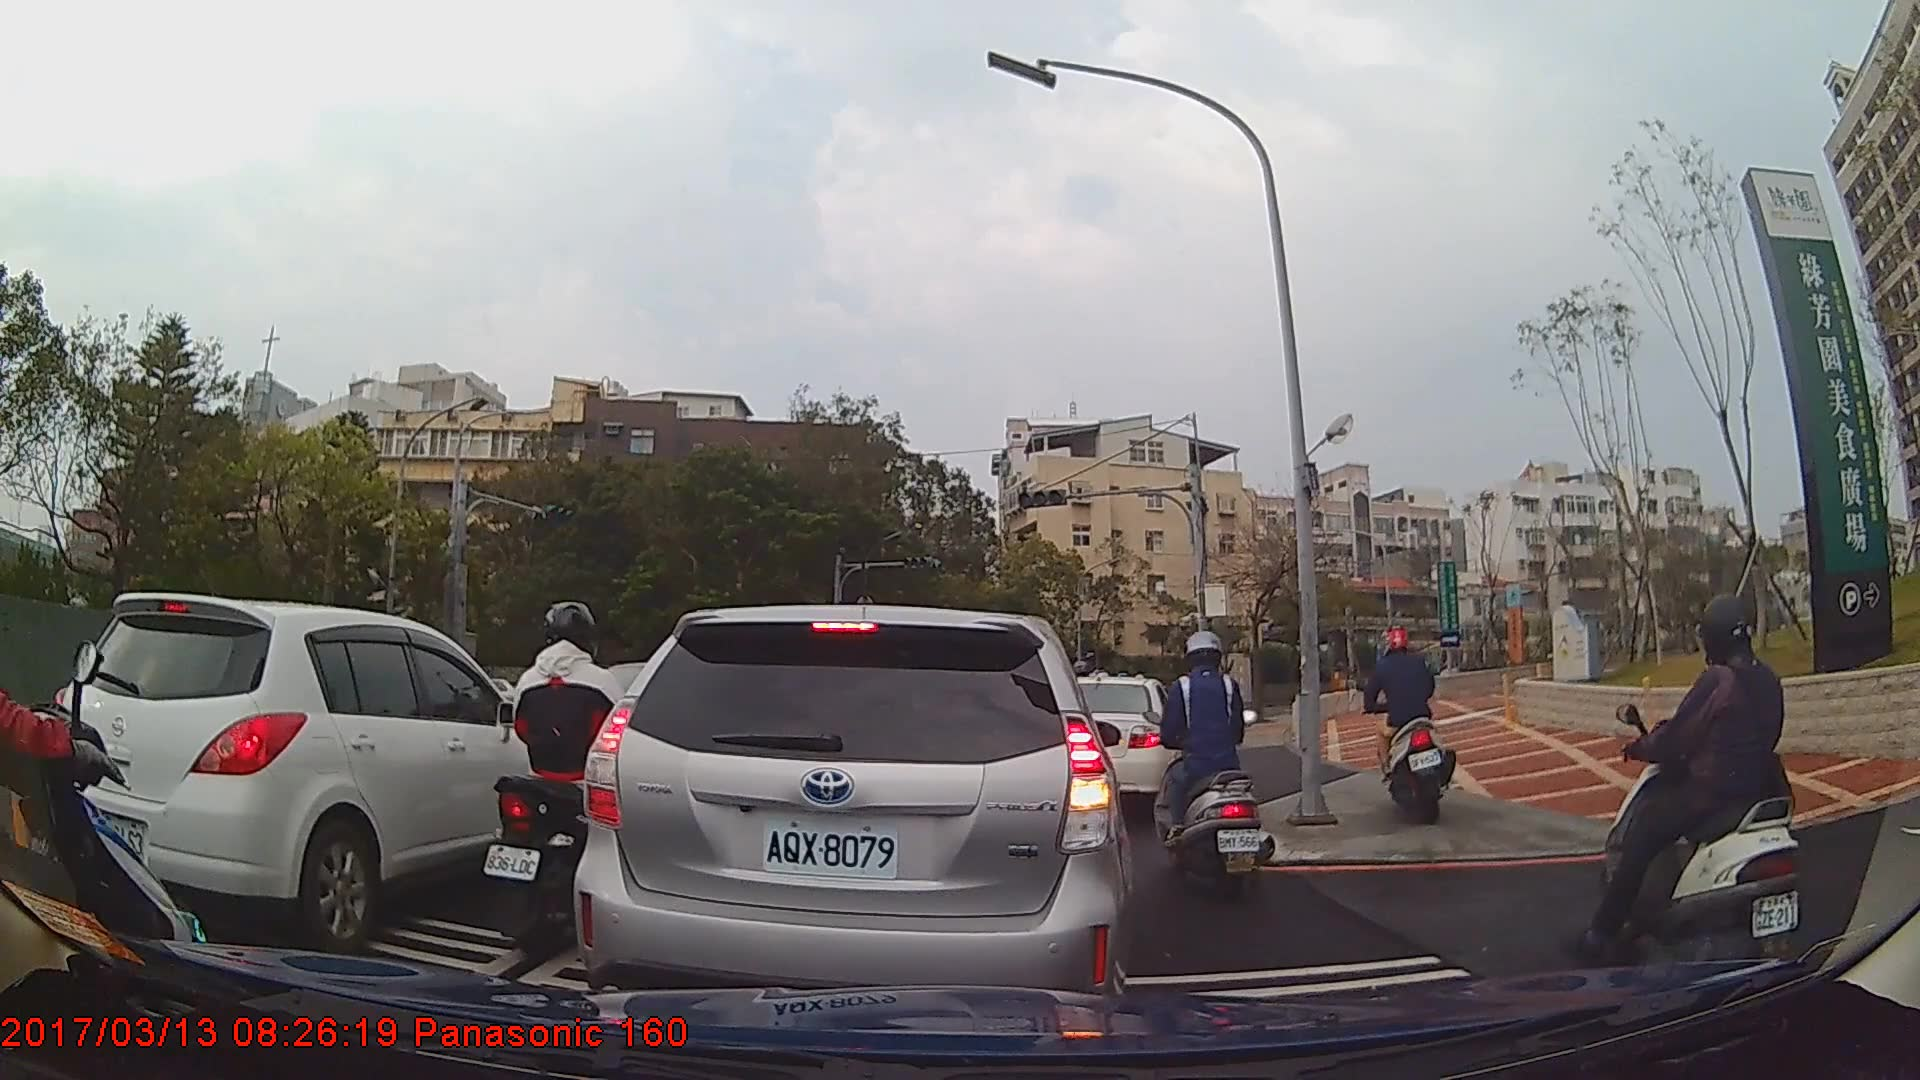rider: (1567, 592, 1812, 977), (484, 597, 662, 955), (1147, 629, 1272, 902), (1363, 630, 1463, 829)
vehicle: (573, 603, 1131, 1029), (38, 592, 582, 953), (1056, 672, 1193, 810)
